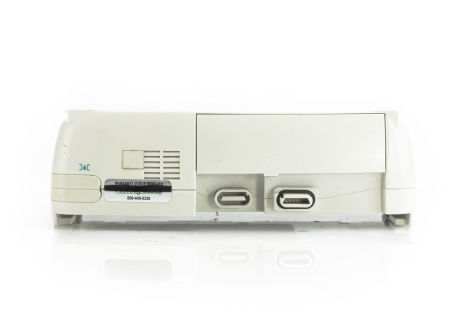BBraun Infusomat Space: (45, 104, 421, 236)
